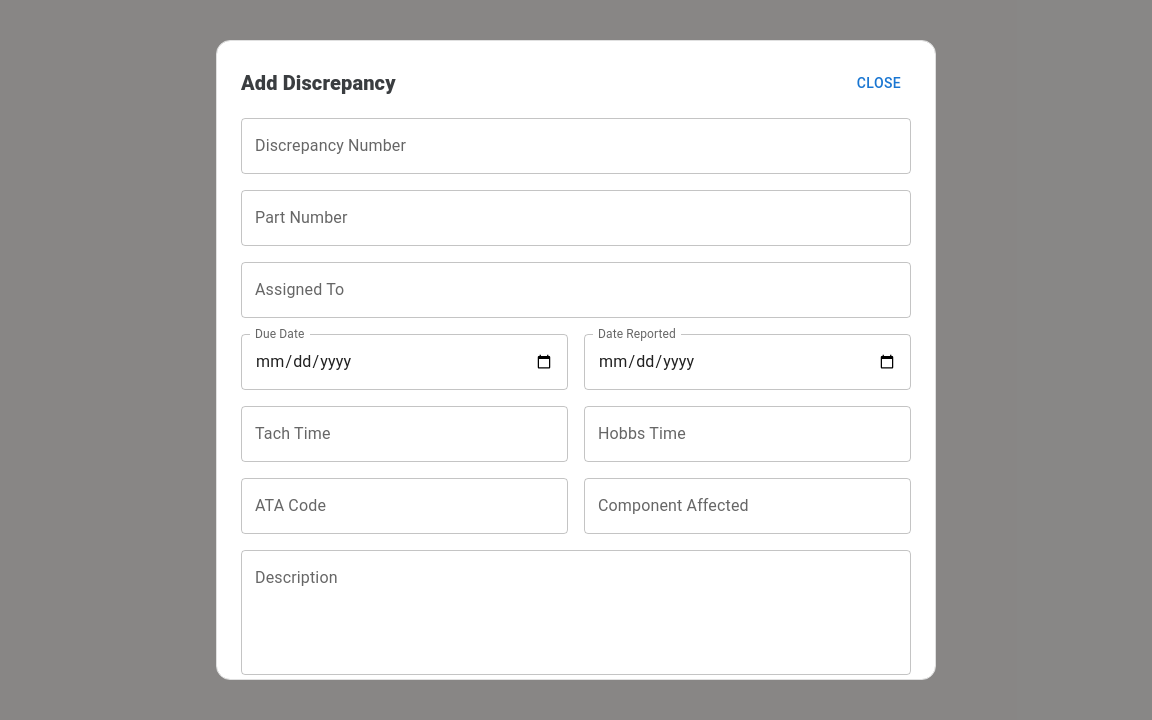
Test: AddDiscrepancyForm › Form Validation › should show error for missing description
Type "DISC-001" into the field labelled "Discrepancy Number" at (576, 146), box [241,118,911,174]
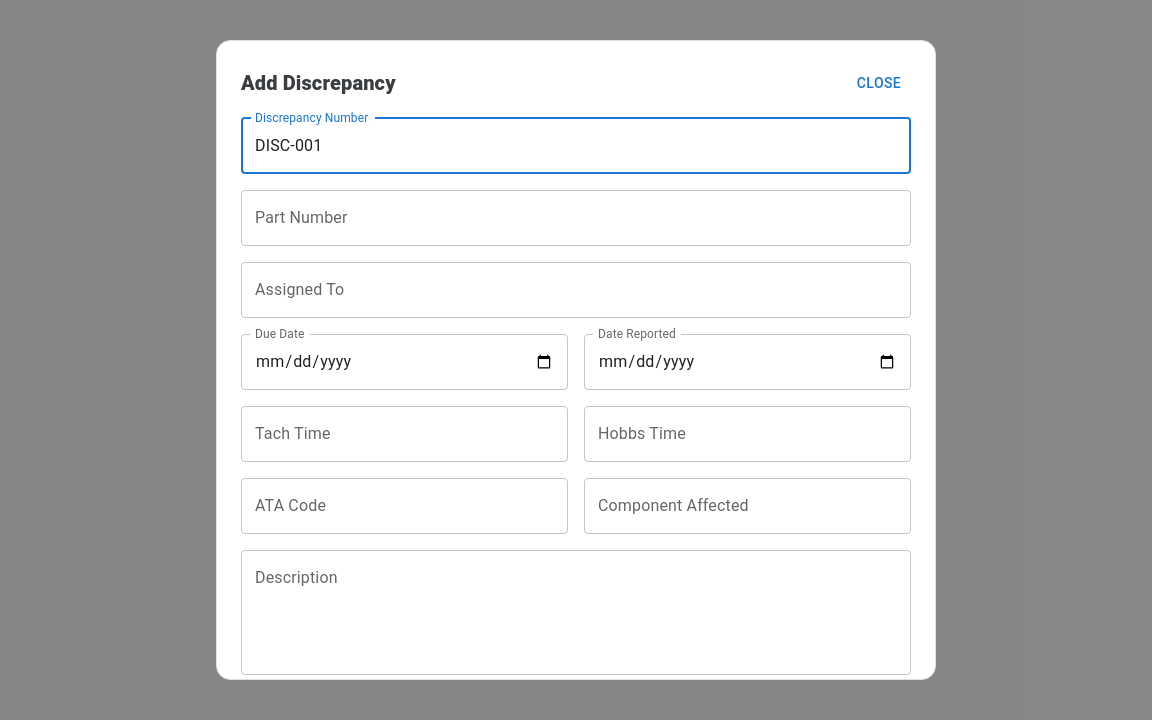
Type "PN-12345" into the field labelled "Part Number" at (576, 218), box [241,190,911,246]
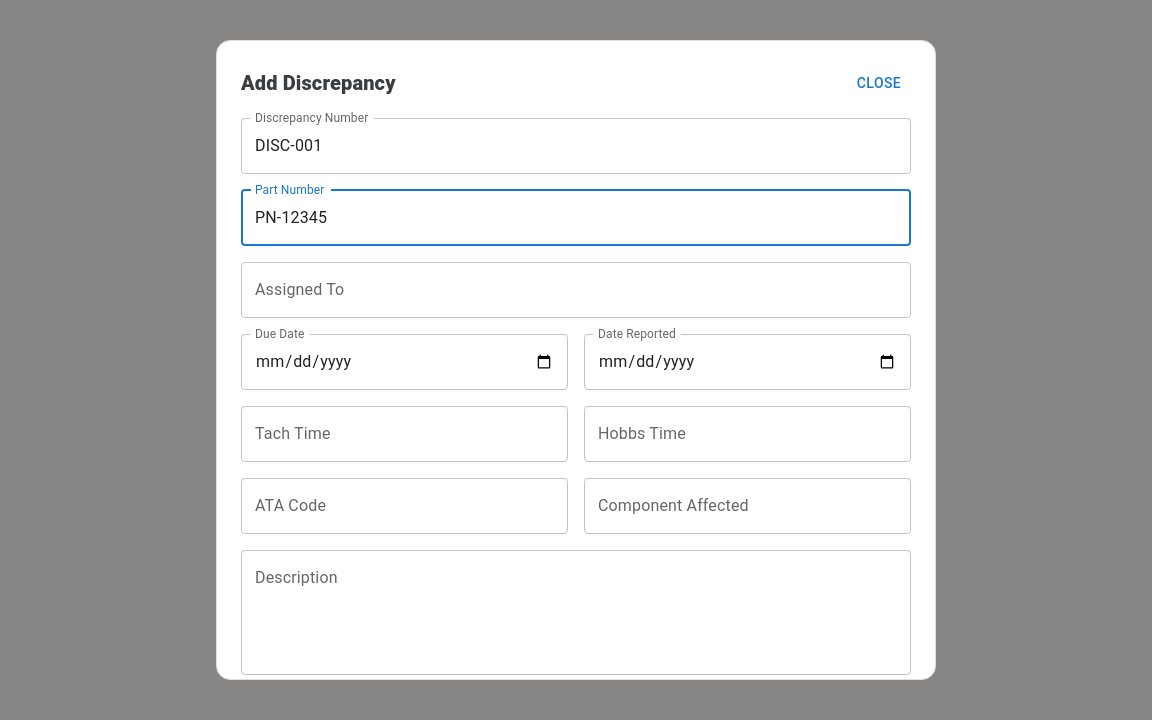
Type "John Doe" into the field labelled "Assigned To" at (576, 290), box [241,262,911,318]
(page scrolled)
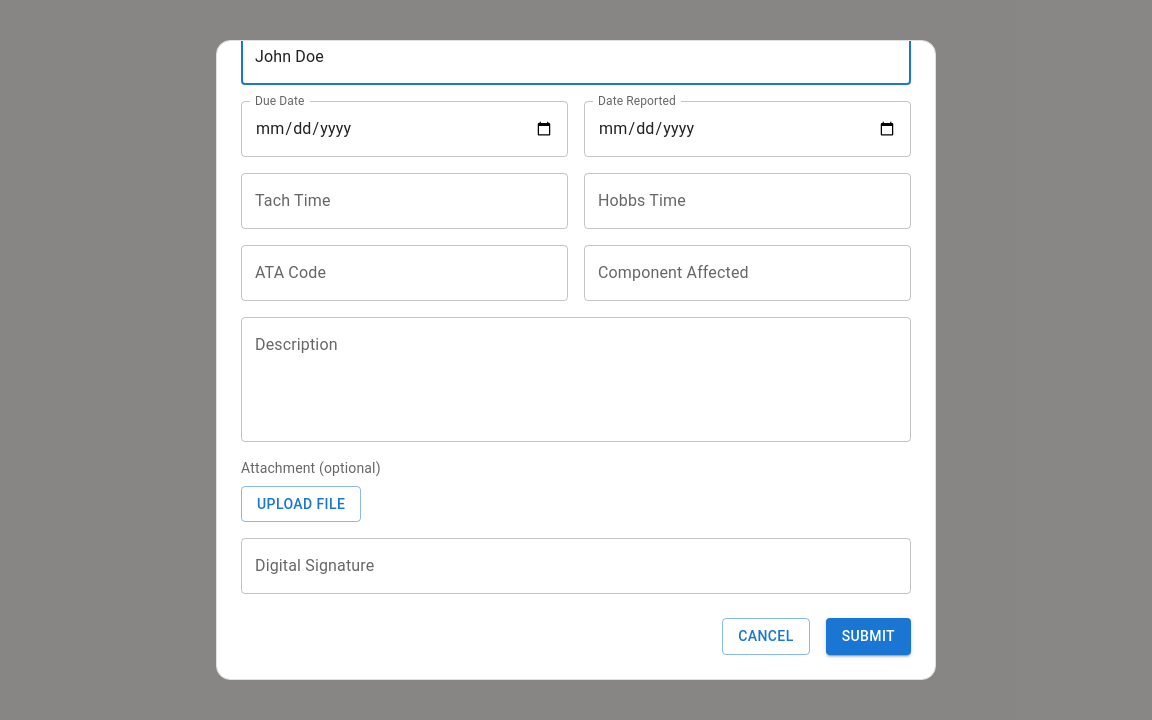
Click the button "Submit" at (868, 636), box [826,618,911,654]
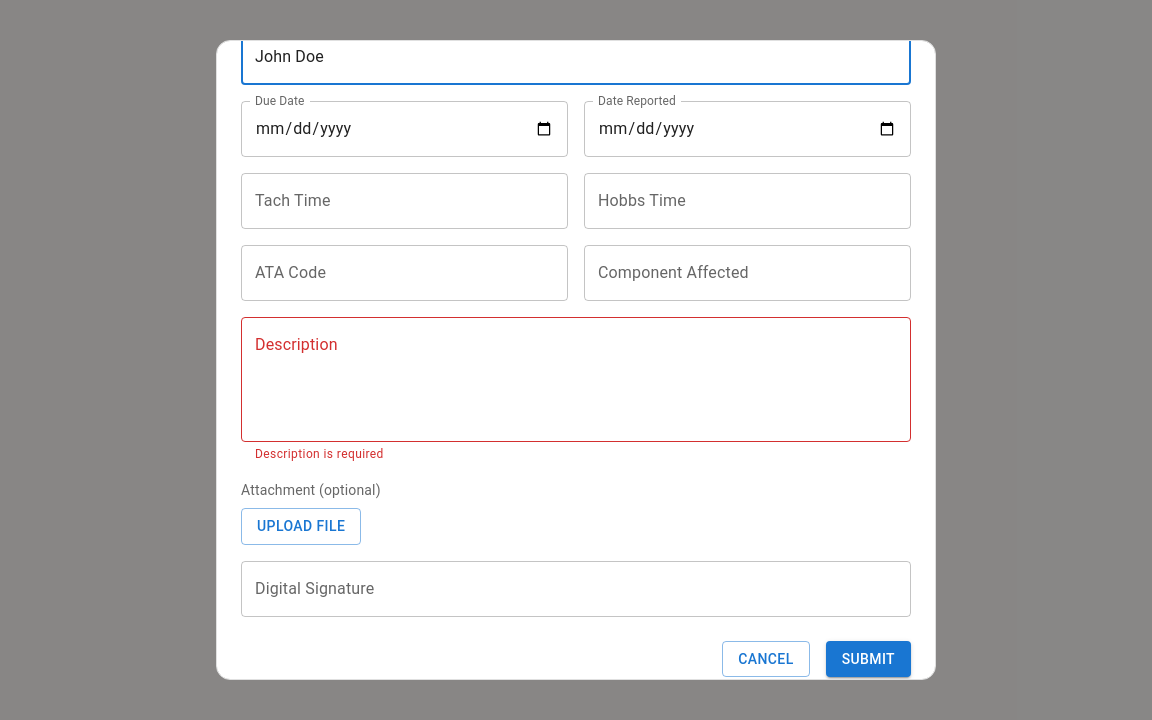
Expected: the text "Description is required" is shown, [255,446,384,460]
